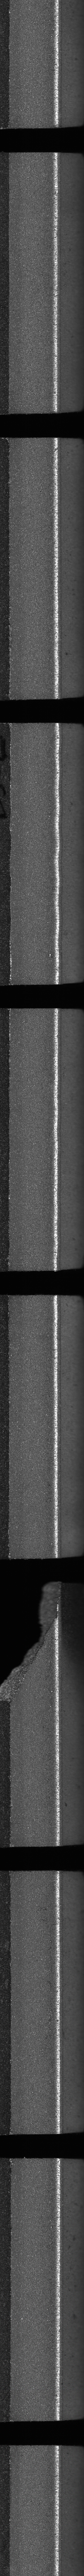Chip: (0, 1575, 64, 1710)
